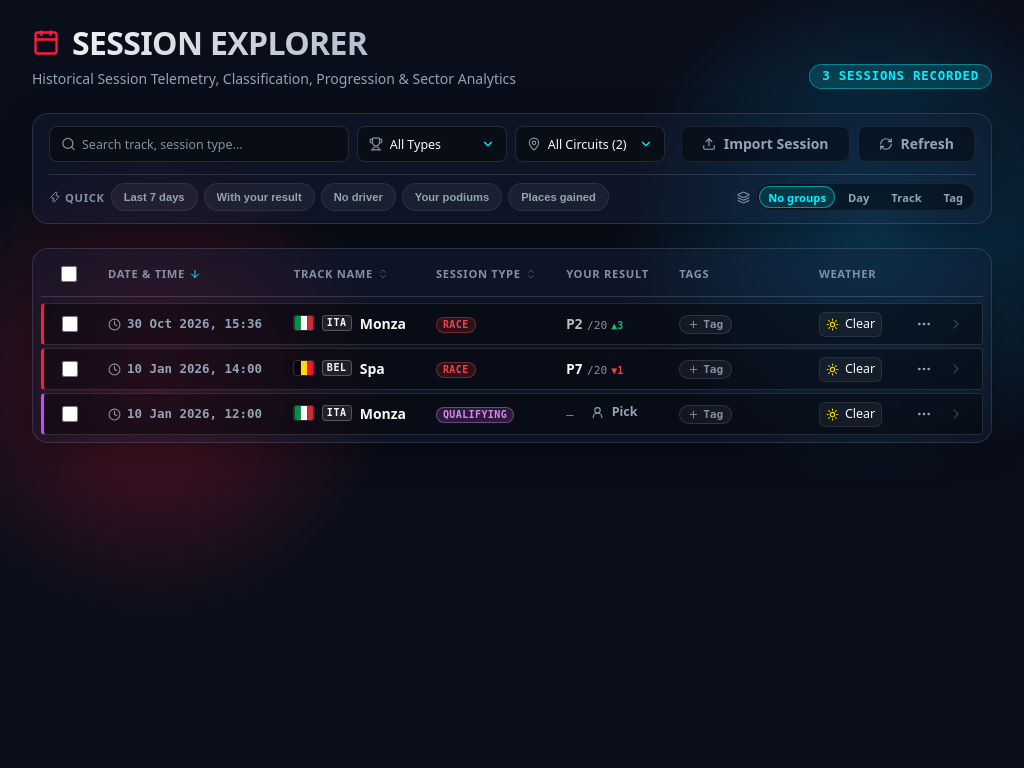
Test: Session list: quick filters, saved filters, groups and pages › saves the current filters under a name, applies them with a click and deletes them
Expected: the column heading "ITA Monza" next to "30 Oct 2026, 15:36" is shown, [282,303,424,345]
Step 1. Click the button "Places gained" → (558, 197), box [508,183,609,211]
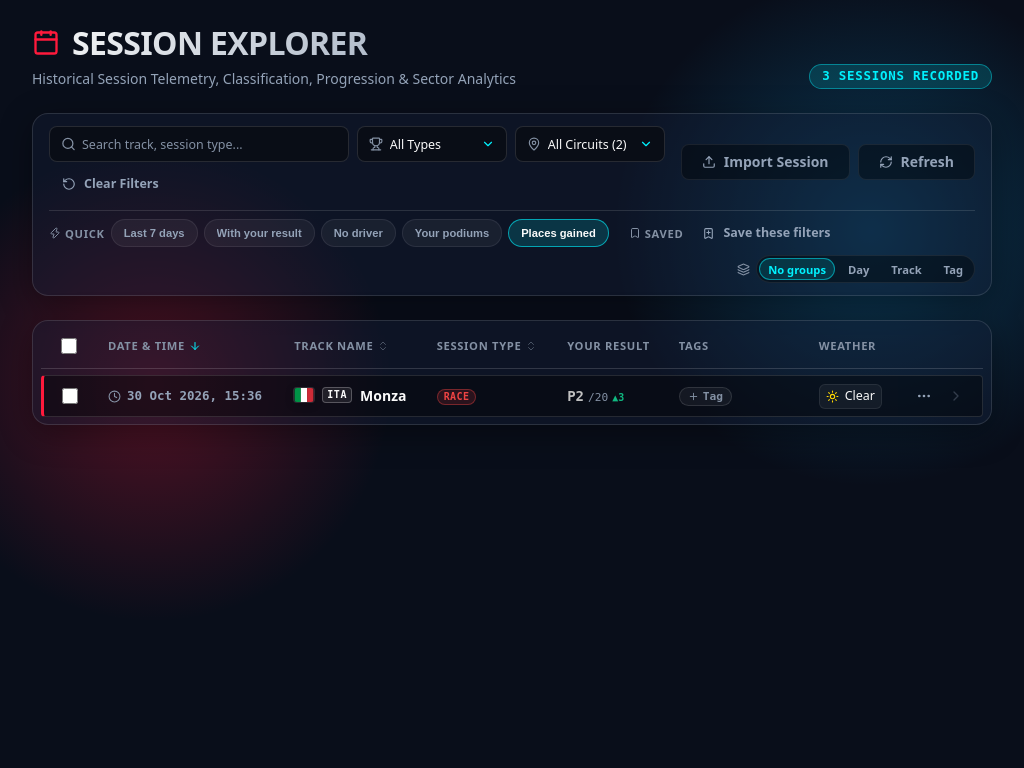
Step 2. Click the button "Save these filters" → (766, 233), box [689,219,843,247]
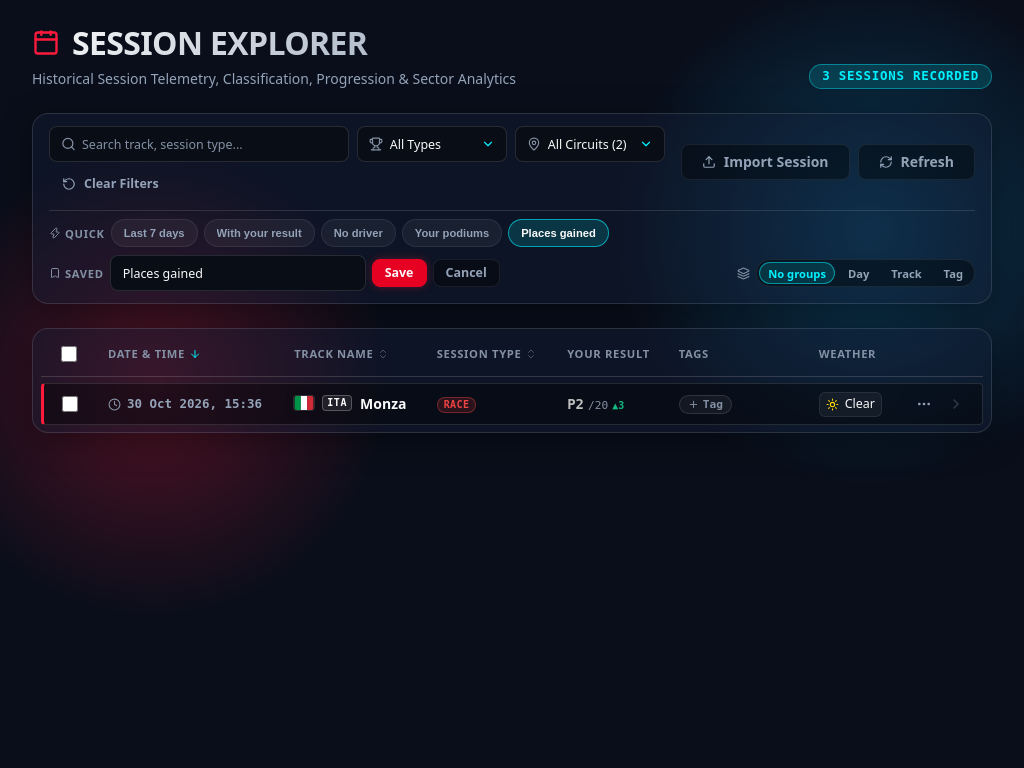
Expected: the field named "Name for these filters" holds "Places gained"
Step 3. Replace the text in the field named "Name for these filters" with "Comebacks" → (238, 273), box [110,255,366,291]
Step 4. Click the button "Save" → (399, 273), box [372,259,426,287]
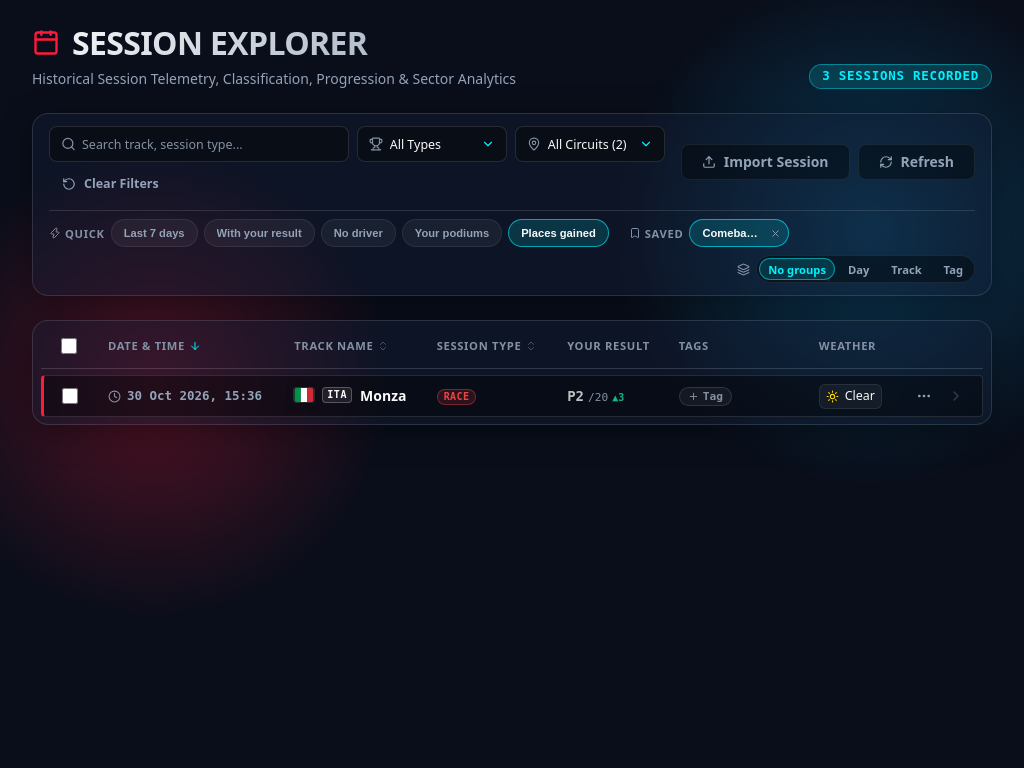
Expected: the button "Save these filters" is not shown
Step 5. Click the button "Clear Filters" → (110, 184), box [49,170,172,198]
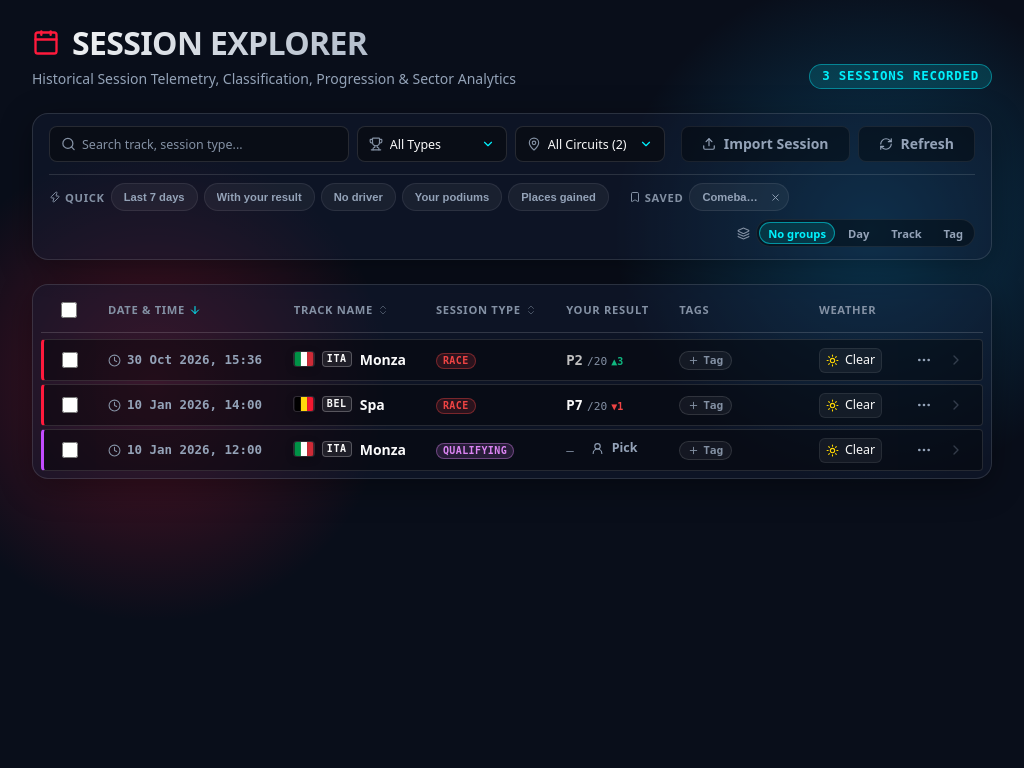
Step 6. Click the button "Comebacks" → (739, 197), box [689,183,789,211]
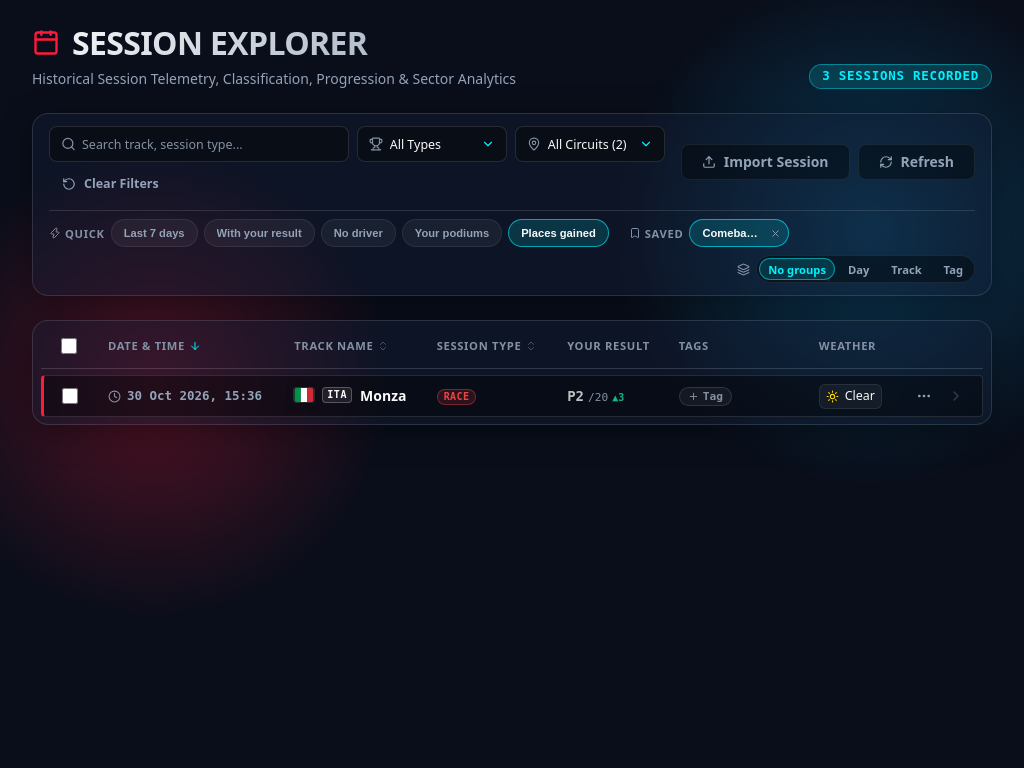
Step 7. Click the button named "Delete saved filter Comebacks" → (776, 233), box [765,222,787,245]
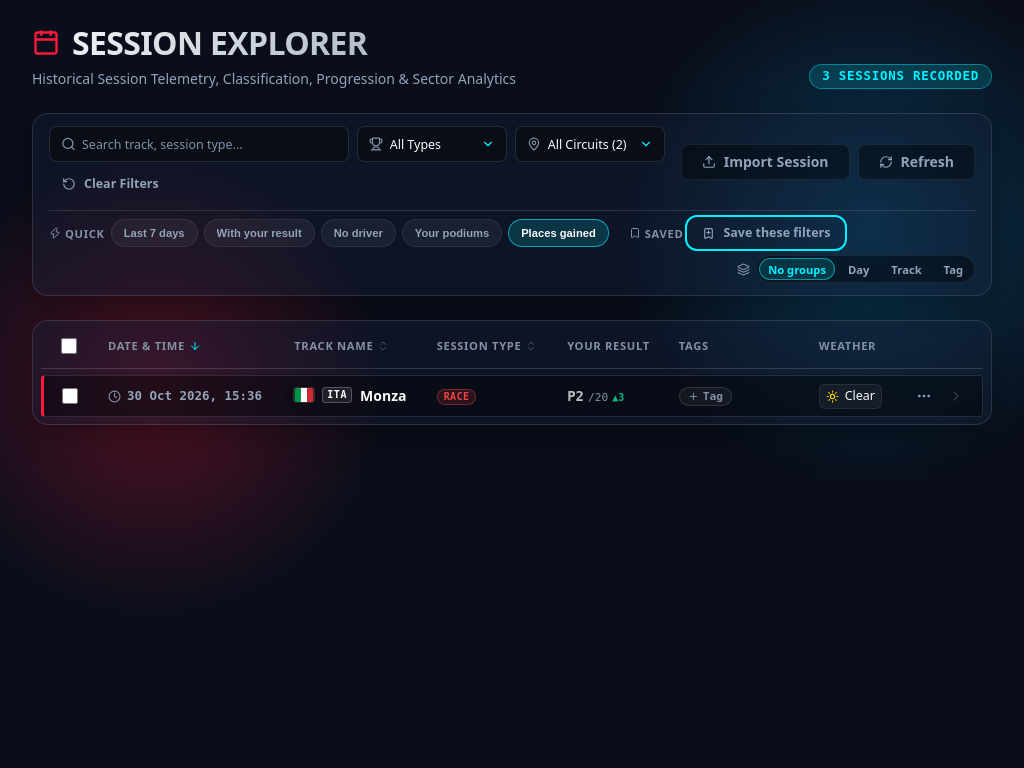
Expected: the button "Comebacks" is gone
